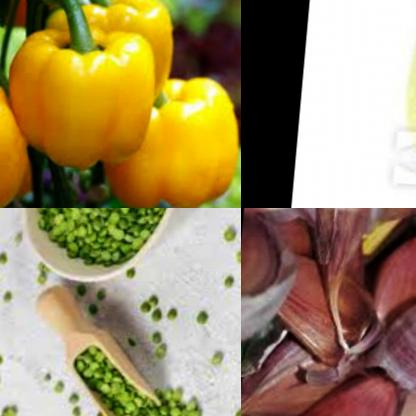bell pepper: (6, 22, 155, 159), (105, 67, 241, 208), (35, 0, 186, 90)
garlic: (241, 208, 416, 416)
peas: (77, 325, 224, 416), (33, 208, 182, 268), (64, 259, 146, 316), (144, 284, 202, 351), (217, 208, 241, 296), (0, 228, 22, 311), (46, 370, 85, 416), (0, 385, 51, 416), (28, 251, 60, 293), (192, 303, 215, 334), (211, 340, 235, 366), (0, 336, 6, 381)
